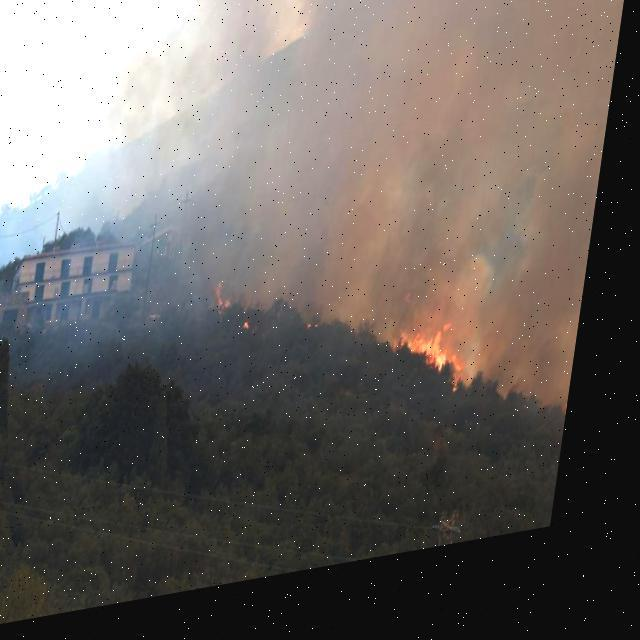Fire: (394, 310, 487, 420), (220, 291, 243, 325)
